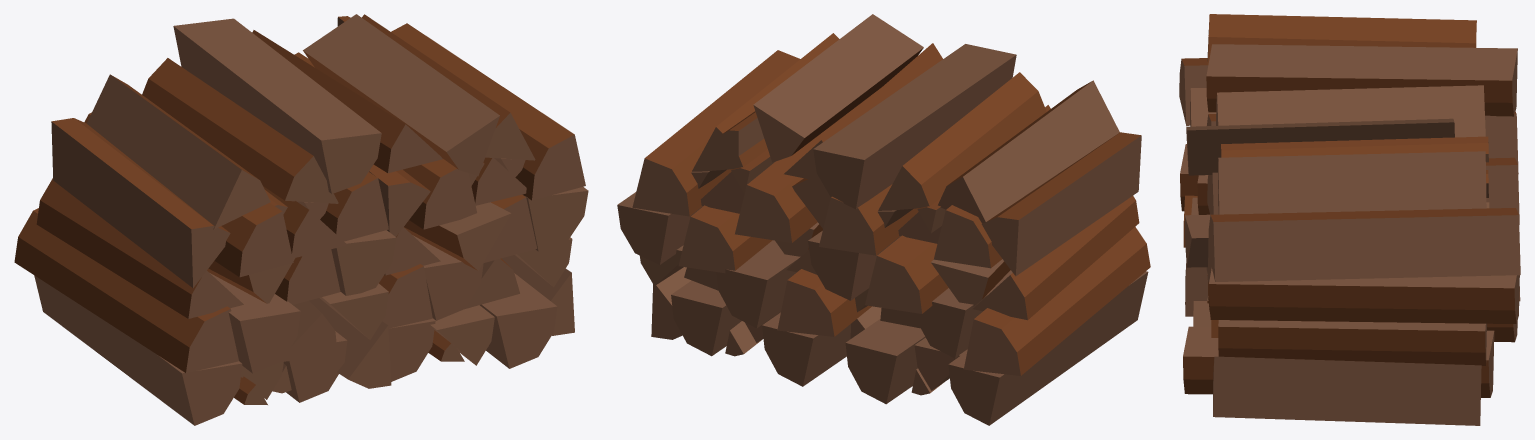
Rendered from Logs2.fbx.
3 renders of one model, left to right at view 1: azimuth 30°, elevation 25°; view 2: azimuth 150°, elevation 25°; view 3: azimuth 270°, elevation 25°, orthographic. The views are drawn at different scales.
Parts seen in each view (by area): view 1: Firewood_pile_03; view 2: Firewood_pile_03; view 3: Firewood_pile_03.
Part boxes in pixels (x1,y1,x2,y2): Firewood_pile_03: [14, 14, 588, 425]; Firewood_pile_03: [617, 14, 1150, 425]; Firewood_pile_03: [1179, 14, 1520, 425].
Size of the model in its own units: 153 by 90 by 107.
